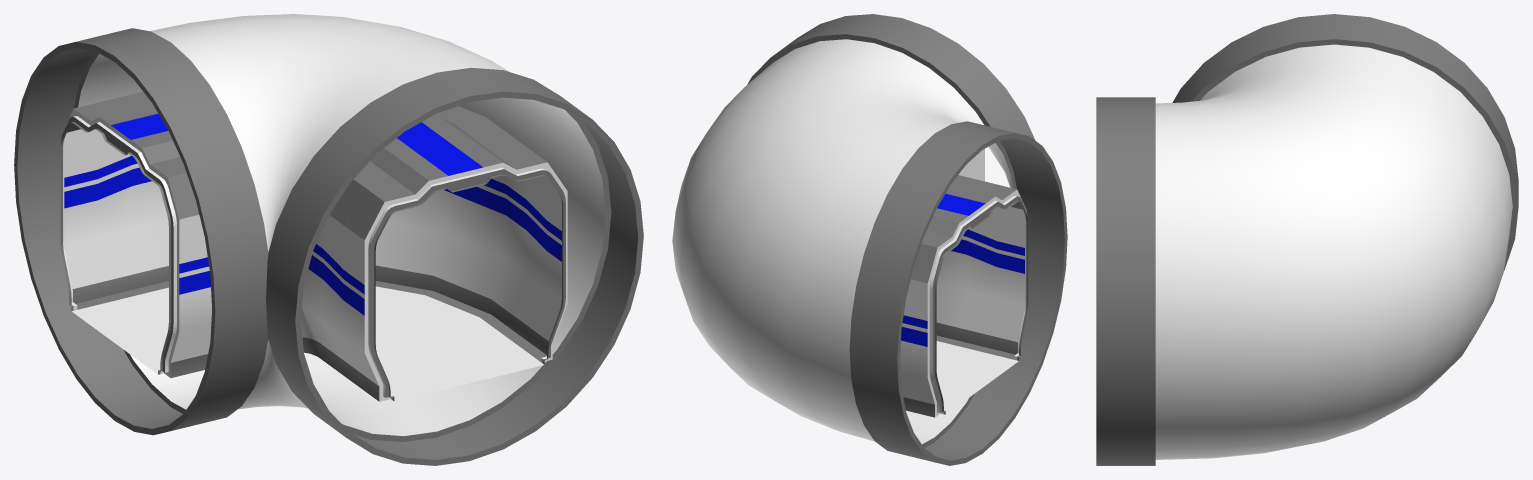
Rendered from PasilloL.fbx.
The picture shows the model from 3 angles, left to right: view 1: azimuth 30°, elevation 25°; view 2: azimuth 150°, elevation 25°; view 3: azimuth 270°, elevation 25°; orthographic projection. The views are drawn at different scales.
Parts seen in each view (by area): view 1: PasilloL; view 2: PasilloL; view 3: PasilloL.
Part boxes in pixels (x1,y1,x2,y2): PasilloL: (14,14,643,465); PasilloL: (672,14,1067,465); PasilloL: (1096,14,1518,465).
Bounding box in the file's own units: 1420 × 1240 × 1420.
Materials: 1 (1 with a texture image).
